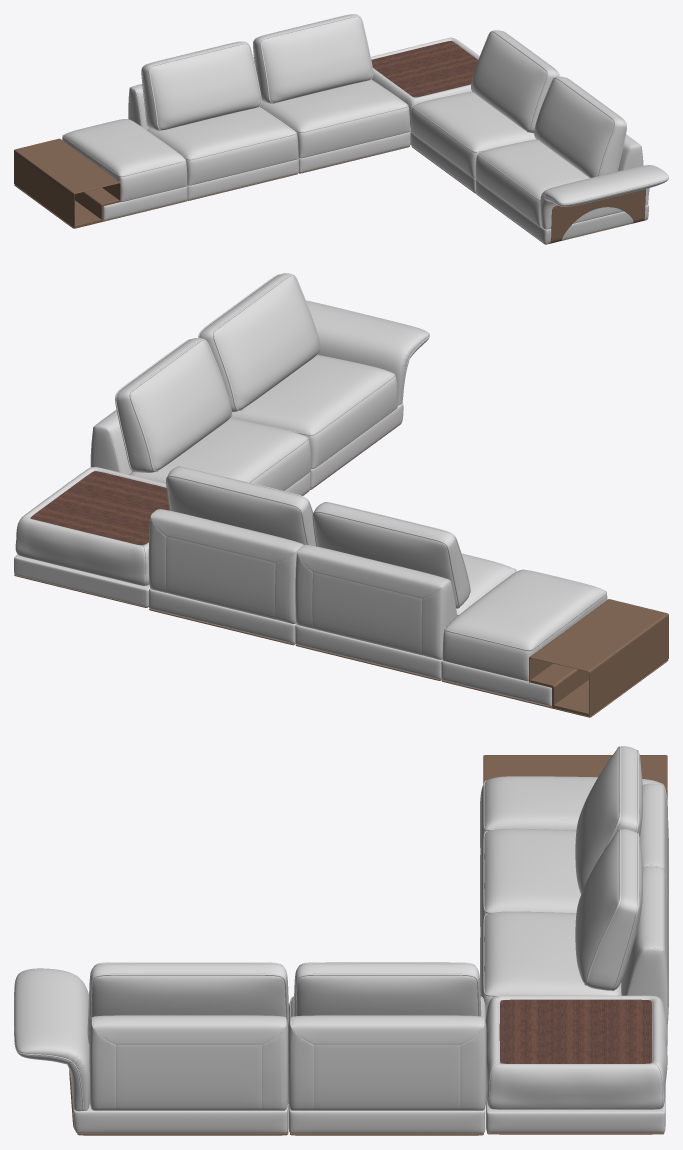
File: St_Hilker_DORTMUND__L_Shape.glb
3 views of the same model, one above another, from view 1: azimuth 30°, elevation 25°; view 2: azimuth 150°, elevation 25°; view 3: azimuth 270°, elevation 25° (orthographic). The views are drawn at different scales.
Parts seen in each view (by area): view 1: DORTMUND__L_Shape; view 2: DORTMUND__L_Shape; view 3: DORTMUND__L_Shape.
Part boxes in pixels (x1,y1,x2,y2): DORTMUND__L_Shape: (14, 14, 668, 244); DORTMUND__L_Shape: (14, 273, 668, 717); DORTMUND__L_Shape: (14, 746, 668, 1135).
Bounding box in the file's own units: 3.99 × 0.8974 × 3.35.
3 materials, 1 textured.
